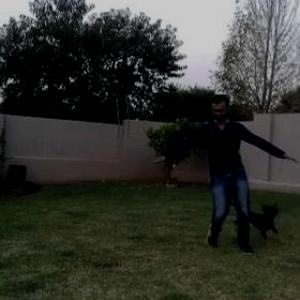land: (142, 89, 294, 257)
